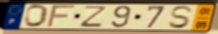7: (145, 5, 167, 30)
9: (110, 5, 132, 29)
F: (45, 4, 78, 28)
O: (23, 4, 51, 29)
S: (168, 6, 196, 30)
Z: (78, 5, 110, 28)
